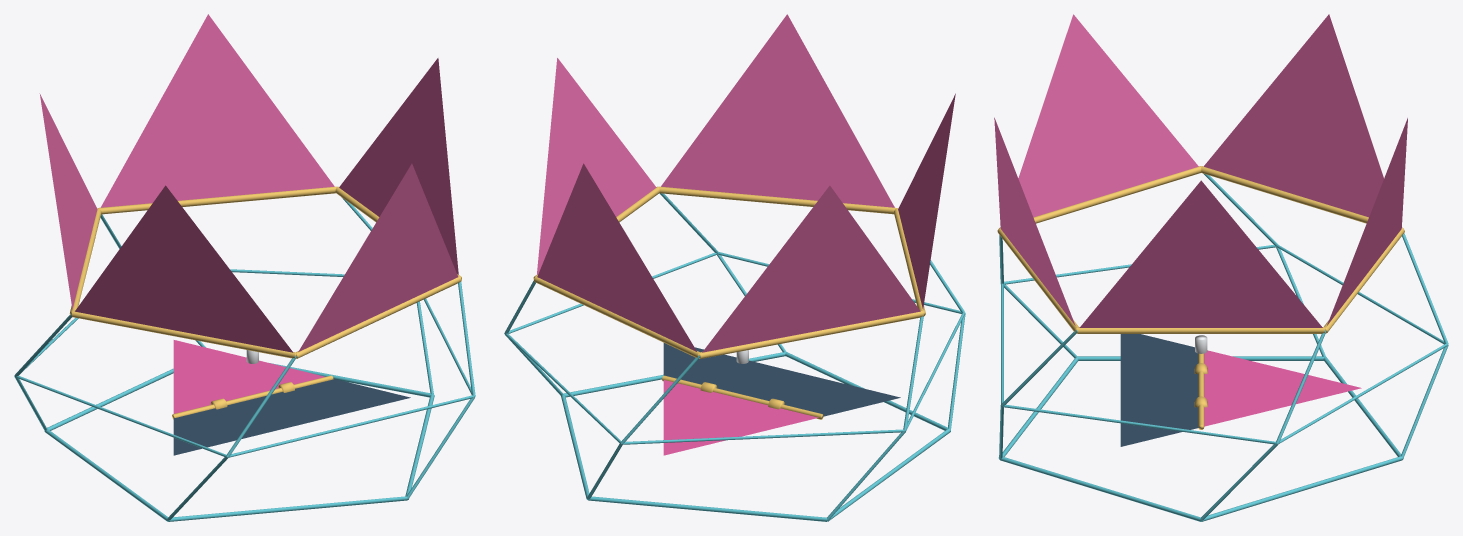
The model's file is NEXAH_The_One_D1_D2_Gegenrichtung_02.glb.
The picture shows the model from 3 angles, left to right: view 1: azimuth 30°, elevation 25°; view 2: azimuth 150°, elevation 25°; view 3: azimuth 270°, elevation 25°; orthographic projection.
Visible parts, largest first — view 1: Fixed crown reference 5, Fixed crown reference 2, Fixed crown reference 3, Fixed crown reference 4, Fixed lower shadow panel, THE ONE rotating upper triangle, Fixed crown reference 1, Crown hinge 4, Crown hinge 1, Lower frame A2, Crown hinge 2, Middle reference M2 (+6 smaller); view 2: Fixed crown reference 3, Fixed crown reference 1, Fixed crown reference 5, Fixed crown reference 4, Fixed lower shadow panel, THE ONE rotating upper triangle, Fixed crown reference 2, Crown hinge 2, Crown hinge 0, Lower frame A0, Crown hinge 4, Middle reference M0 (+6 smaller); view 3: Fixed crown reference 2, Fixed crown reference 1, Fixed crown reference 4, Fixed lower shadow panel, THE ONE rotating upper triangle, Fixed crown reference 3, Fixed crown reference 5, Crown hinge 3, Crown hinge 1, Crown hinge 0, Lower frame A3, Lower frame A4 (+8 smaller).
Part boxes in pixels (bbox=[...]): Fixed crown reference 5: bbox=[101, 14, 334, 207]; Fixed crown reference 2: bbox=[75, 185, 293, 352]; Fixed crown reference 3: bbox=[298, 163, 457, 351]; Fixed crown reference 4: bbox=[339, 58, 458, 274]; Fixed lower shadow panel: bbox=[173, 378, 410, 455]; THE ONE rotating upper triangle: bbox=[173, 340, 325, 413]; Fixed crown reference 1: bbox=[39, 93, 97, 309]; Crown hinge 4: bbox=[98, 186, 336, 214]; Crown hinge 1: bbox=[71, 310, 295, 358]; Lower frame A2: bbox=[168, 496, 407, 521]; Crown hinge 2: bbox=[296, 276, 461, 358]; Middle reference M2: bbox=[228, 395, 474, 457]; Fixed crown reference 3: bbox=[661, 14, 894, 207]; Fixed crown reference 1: bbox=[702, 185, 920, 352]; Fixed crown reference 5: bbox=[537, 163, 696, 351]; Fixed crown reference 4: bbox=[537, 58, 656, 274]; Fixed lower shadow panel: bbox=[663, 343, 900, 416]; THE ONE rotating upper triangle: bbox=[663, 380, 818, 455]; Fixed crown reference 2: bbox=[898, 93, 955, 309]; Crown hinge 2: bbox=[658, 186, 897, 214]; Crown hinge 0: bbox=[699, 310, 923, 358]; Lower frame A0: bbox=[588, 496, 827, 521]; Crown hinge 4: bbox=[534, 276, 699, 358]; Middle reference M0: bbox=[622, 429, 904, 444]; Fixed crown reference 2: bbox=[1018, 14, 1198, 217]; Fixed crown reference 1: bbox=[1204, 14, 1383, 217]; Fixed crown reference 4: bbox=[1079, 180, 1322, 327]; Fixed lower shadow panel: bbox=[1120, 334, 1200, 446]; THE ONE rotating upper triangle: bbox=[1204, 350, 1361, 426]; Fixed crown reference 3: bbox=[994, 117, 1075, 325]; Fixed crown reference 5: bbox=[1327, 118, 1407, 325]; Crown hinge 3: bbox=[1077, 327, 1324, 333]; Crown hinge 1: bbox=[999, 166, 1201, 228]; Crown hinge 0: bbox=[1201, 166, 1403, 228]; Lower frame A3: bbox=[999, 456, 1201, 521]; Lower frame A4: bbox=[1201, 456, 1402, 521].
Bounding box in the file's own units: 0.1901 × 0.1534 × 0.1834.
